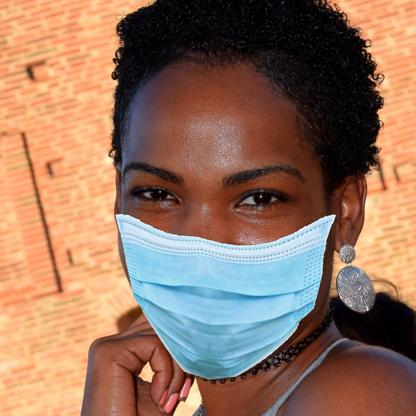mask: (112, 212, 330, 380)
